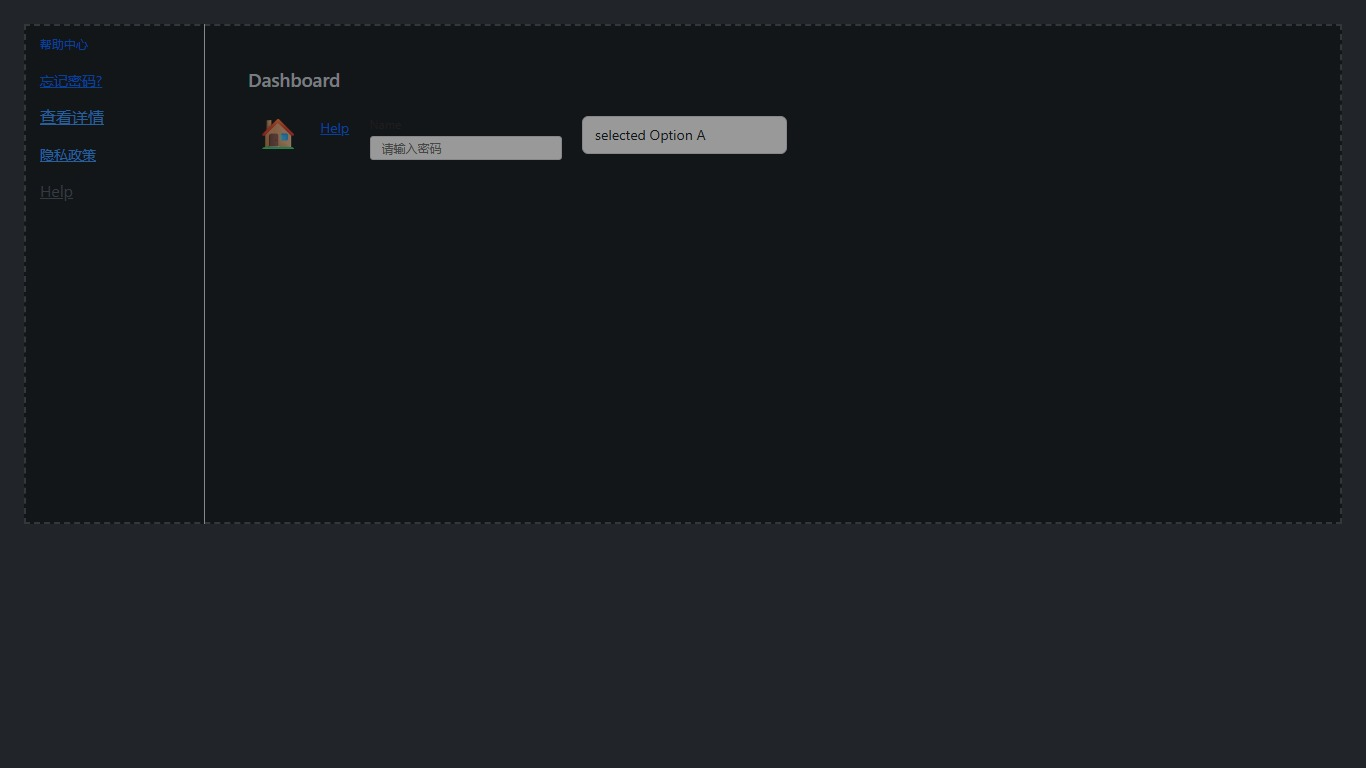icon: (256, 116, 300, 148)
input: (370, 136, 562, 160)
link: (40, 106, 104, 127), (40, 71, 102, 90), (40, 145, 96, 164), (40, 36, 88, 52), (40, 180, 73, 201), (320, 118, 349, 137)
modal: (24, 24, 1342, 524)
select: (582, 116, 787, 154)
